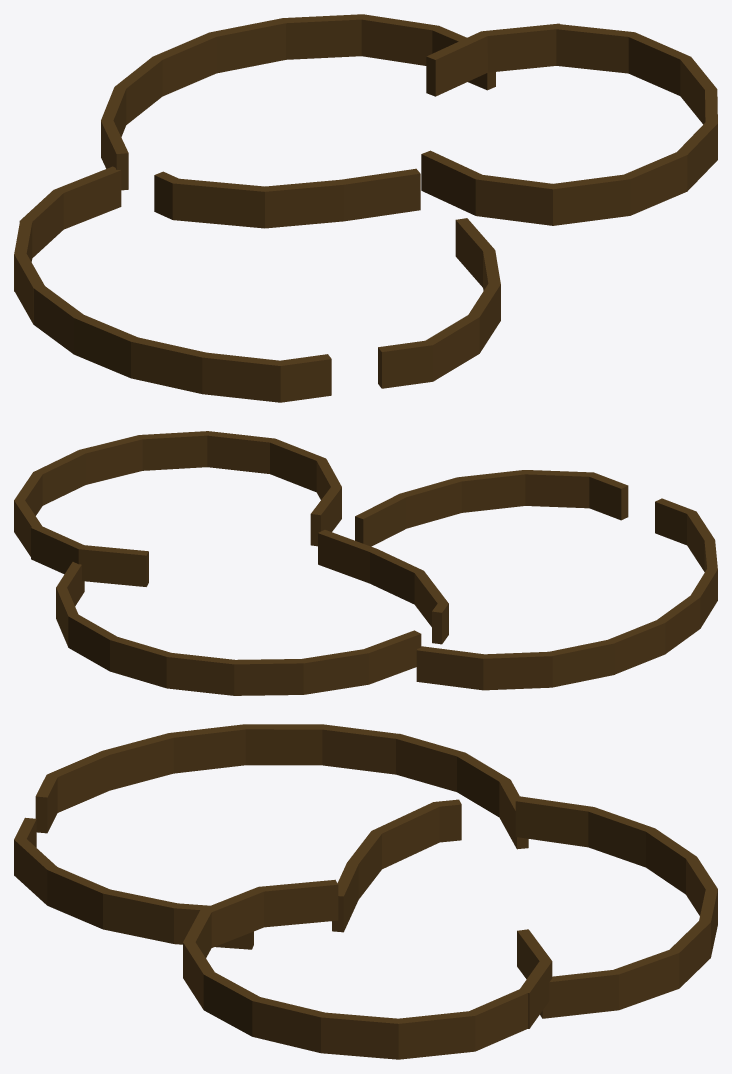
The model's file is City Walls.fbx.
3 renders of one model, top to bottom at view 1: azimuth 30°, elevation 25°; view 2: azimuth 150°, elevation 25°; view 3: azimuth 270°, elevation 25°, orthographic. The views are drawn at different scales.
Parts seen in each view (by area): view 1: Wall__18_, Wall__17_, Wall__8_, Wall__34_, Wall__33_, Wall__16_, Wall__25_, Wall__40_, Wall__7_, Wall__24_, Wall__26_, Wall__27_ (+23 smaller); view 2: Wall__2_, Wall__22_, Wall__23_, Wall__28_, Wall, Wall__36_, Wall__21_, Wall__12_, Wall__11_, Wall__3_, Wall__35_, Wall__37_ (+24 smaller); view 3: Wall__5_, Wall__39_, Wall__38_, Wall__32_, Wall__4_, Wall__20_, Wall__6_, Wall__1_, Wall__13_, Wall__37_, Wall__7_, Wall__3_ (+24 smaller).
Part boxes in pixels (bbox=[...]): Wall__18_: bbox=[172, 178, 264, 228]; Wall__17_: bbox=[262, 179, 343, 228]; Wall__8_: bbox=[202, 352, 283, 402]; Wall__34_: bbox=[550, 174, 630, 225]; Wall__33_: bbox=[475, 175, 555, 225]; Wall__16_: bbox=[340, 168, 420, 221]; Wall__25_: bbox=[283, 14, 363, 59]; Wall__40_: bbox=[554, 24, 634, 73]; Wall__7_: bbox=[131, 337, 207, 393]; Wall__24_: bbox=[209, 18, 287, 73]; Wall__26_: bbox=[360, 14, 438, 65]; Wall__27_: bbox=[481, 23, 561, 72]; Wall__2_: bbox=[482, 651, 552, 690]; Wall__22_: bbox=[234, 659, 303, 695]; Wall__23_: bbox=[166, 652, 234, 695]; Wall__28_: bbox=[78, 545, 148, 586]; Wall: bbox=[416, 646, 485, 690]; Wall__36_: bbox=[139, 431, 208, 470]; Wall__21_: bbox=[300, 649, 368, 694]; Wall__12_: bbox=[457, 470, 525, 512]; Wall__11_: bbox=[523, 470, 593, 508]; Wall__3_: bbox=[549, 639, 614, 687]; Wall__35_: bbox=[205, 431, 274, 473]; Wall__37_: bbox=[79, 435, 143, 484]; Wall__5_: bbox=[244, 724, 323, 765]; Wall__39_: bbox=[396, 1011, 475, 1059]; Wall__38_: bbox=[321, 1012, 400, 1059]; Wall__32_: bbox=[258, 879, 338, 927]; Wall__4_: bbox=[320, 724, 398, 774]; Wall__20_: bbox=[515, 796, 593, 847]; Wall__6_: bbox=[168, 724, 247, 773]; Wall__1_: bbox=[540, 969, 618, 1018]; Wall__13_: bbox=[103, 889, 176, 943]; Wall__37_: bbox=[252, 996, 326, 1052]; Wall__7_: bbox=[102, 733, 174, 790]; Wall__3_: bbox=[393, 733, 464, 791].
Bounding box in the file's own units: 29825 × 2867 × 26705.
